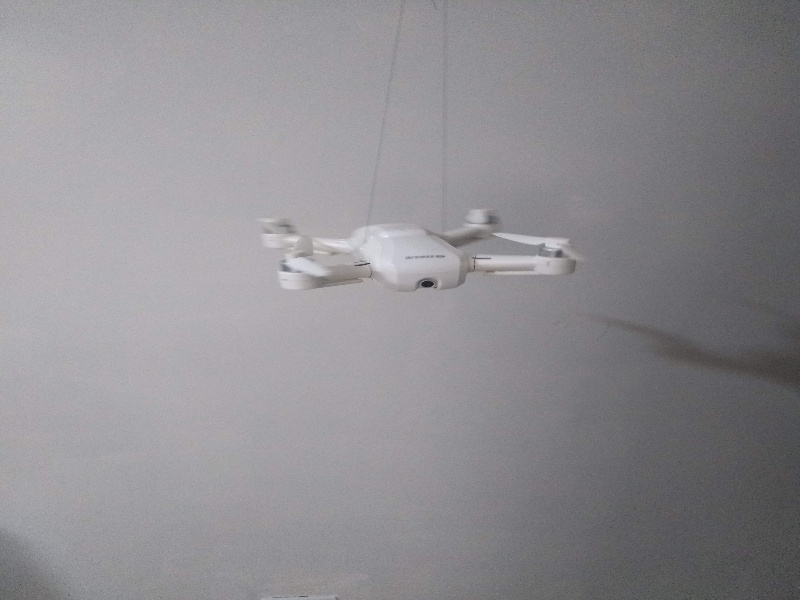drone: (254, 192, 589, 299)
